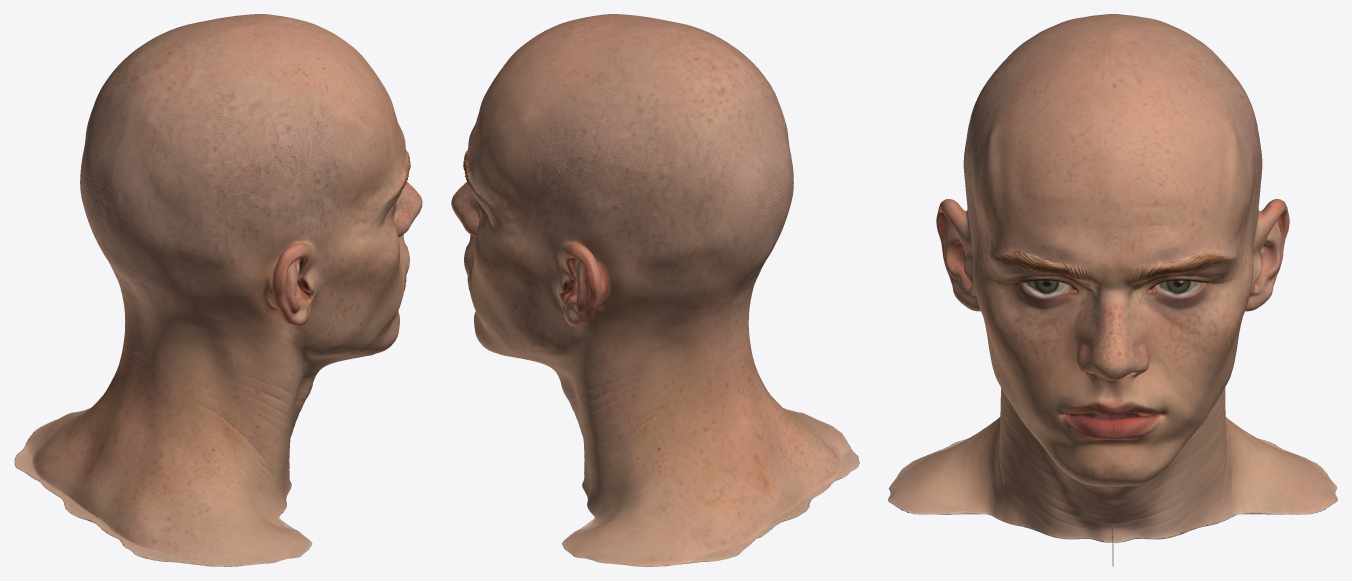
The model's file is head.glb.
3 renders of one model, left to right at view 1: azimuth 30°, elevation 25°; view 2: azimuth 150°, elevation 25°; view 3: azimuth 270°, elevation 25°, orthographic. The views are drawn at different scales.
Parts seen in each view (by area): view 1: tripo_node_ccbdfd2e-3311-4897-a3e2-f41949de4f9e; view 2: tripo_node_ccbdfd2e-3311-4897-a3e2-f41949de4f9e; view 3: tripo_node_ccbdfd2e-3311-4897-a3e2-f41949de4f9e.
Boxes of the visible parts, <box> form: tripo_node_ccbdfd2e-3311-4897-a3e2-f41949de4f9e: <box>14,14,422,566</box>; tripo_node_ccbdfd2e-3311-4897-a3e2-f41949de4f9e: <box>451,14,859,566</box>; tripo_node_ccbdfd2e-3311-4897-a3e2-f41949de4f9e: <box>888,14,1337,566</box>.
Bounding box in the file's own units: 0.7647 × 0.9814 × 0.7754.
1 material, 1 textured.
